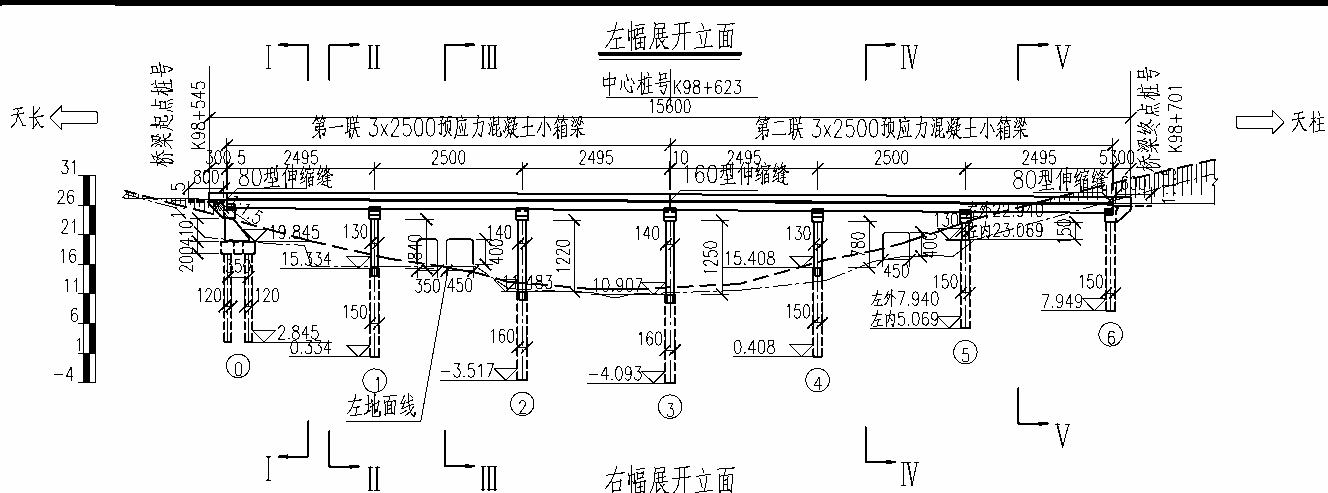C: (586, 202, 691, 426), (727, 202, 837, 400), (441, 207, 541, 422), (864, 205, 980, 368), (310, 200, 393, 399), (1041, 200, 1131, 374)
